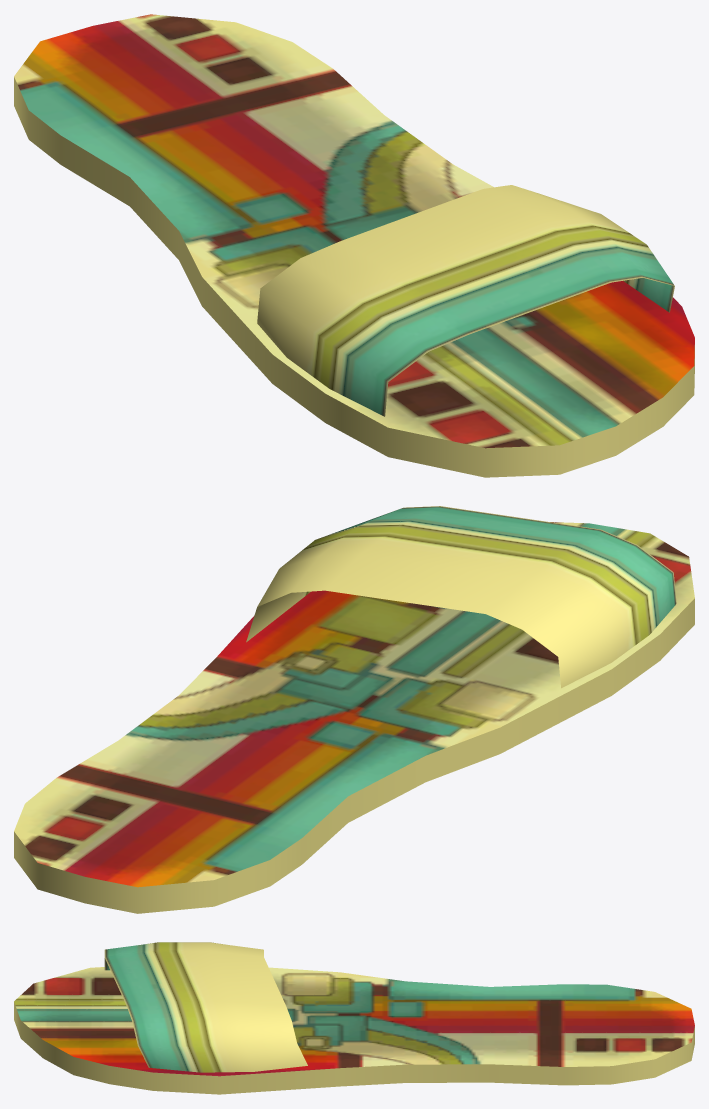
The model's file is p6_beach_sandals_03_left_lod0.glb.
The picture shows the model from 3 angles, top to bottom: view 1: azimuth 30°, elevation 25°; view 2: azimuth 150°, elevation 25°; view 3: azimuth 270°, elevation 25°; orthographic projection. The views are drawn at different scales.
Parts seen in each view (by area): view 1: surf0; view 2: surf0; view 3: surf0.
Boxes of the visible parts, left/top/right/bottom form: surf0: left=14, top=14, right=694, bottom=477; surf0: left=14, top=506, right=694, bottom=913; surf0: left=14, top=942, right=694, bottom=1094.
Size of the model in its own units: 5.16 by 1.33 by 13.24.
